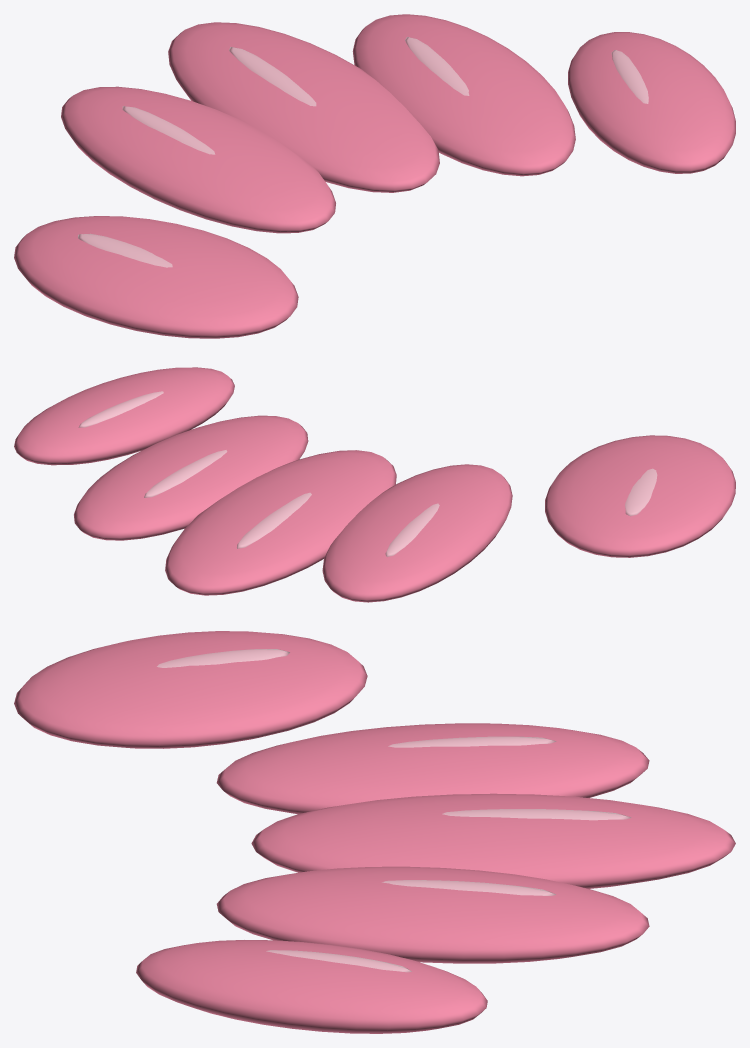
File: ar_nails_rose.glb
3 renders of one model, top to bottom at view 1: azimuth 30°, elevation 25°; view 2: azimuth 150°, elevation 25°; view 3: azimuth 270°, elevation 25°, orthographic. The views are drawn at different scales.
Visible parts, largest first — view 1: glossy_nail_2, glossy_nail_0, glossy_nail_1, glossy_nail_3, glossy_nail_4, nail_highlight_2, nail_highlight_3, nail_highlight_0, nail_highlight_1, nail_highlight_4; view 2: glossy_nail_2, glossy_nail_0, glossy_nail_1, glossy_nail_3, glossy_nail_4, nail_highlight_2, nail_highlight_3, nail_highlight_0, nail_highlight_1, nail_highlight_4; view 3: glossy_nail_2, glossy_nail_0, glossy_nail_3, glossy_nail_1, glossy_nail_4, nail_highlight_2, nail_highlight_3, nail_highlight_0, nail_highlight_1, nail_highlight_4.
Part boxes in pixels (x1,y1,x2,y2): glossy_nail_2: (168, 22, 439, 192); glossy_nail_0: (14, 216, 298, 338); glossy_nail_1: (61, 86, 335, 233); glossy_nail_3: (352, 14, 575, 176); glossy_nail_4: (568, 32, 735, 173); nail_highlight_2: (229, 47, 316, 106); nail_highlight_3: (405, 37, 469, 95); nail_highlight_0: (78, 233, 172, 267); nail_highlight_1: (122, 106, 214, 154); nail_highlight_4: (611, 50, 648, 103); glossy_nail_2: (165, 450, 396, 595); glossy_nail_0: (545, 435, 735, 557); glossy_nail_1: (322, 464, 512, 602); glossy_nail_3: (74, 415, 308, 540); glossy_nail_4: (14, 367, 234, 465); nail_highlight_2: (237, 493, 311, 548); nail_highlight_3: (144, 450, 226, 497); nail_highlight_0: (625, 468, 657, 516); nail_highlight_1: (385, 503, 439, 556); nail_highlight_4: (78, 391, 163, 427); glossy_nail_2: (251, 793, 735, 888); glossy_nail_0: (14, 631, 367, 748); glossy_nail_3: (216, 866, 649, 963); glossy_nail_1: (216, 723, 649, 814); glossy_nail_4: (136, 940, 487, 1033); nail_highlight_2: (442, 809, 631, 820); nail_highlight_3: (382, 880, 555, 895); nail_highlight_0: (157, 649, 289, 667); nail_highlight_1: (388, 736, 556, 747); nail_highlight_4: (266, 950, 411, 972).
Size of the model in its own units: 0.0765 by 0.0045 by 0.0596.
